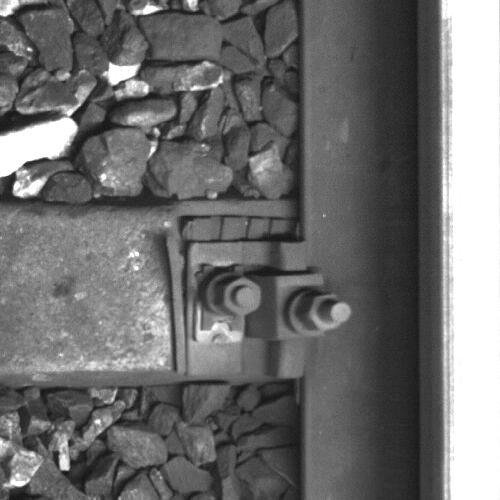kb: (185, 239, 352, 383)
nut: (297, 291, 351, 334), (215, 276, 262, 315)
rail: (440, 1, 500, 500)
tie_concr: (1, 207, 301, 374)
